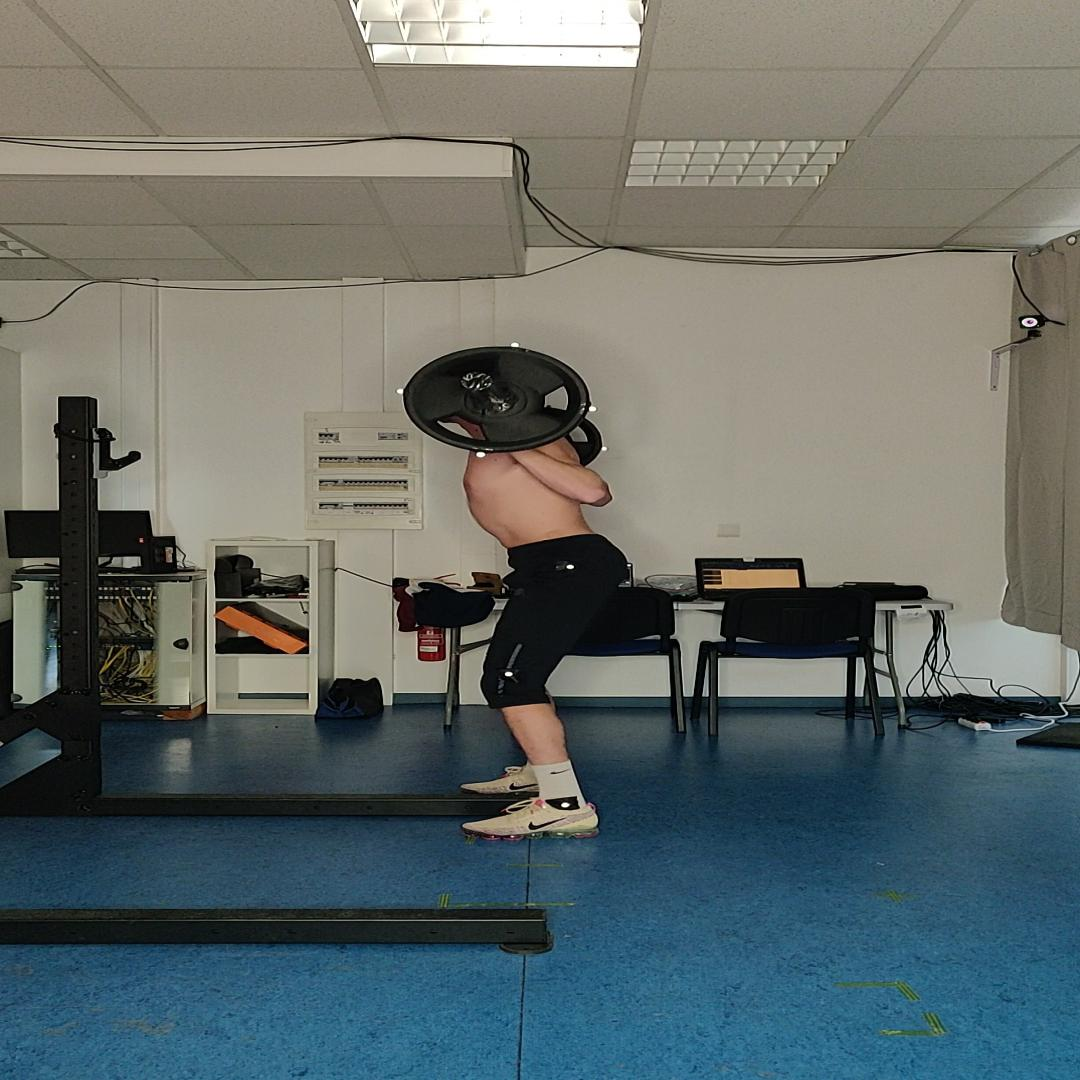Bar: (460, 372, 494, 391)
Barbell: (403, 346, 590, 453)
